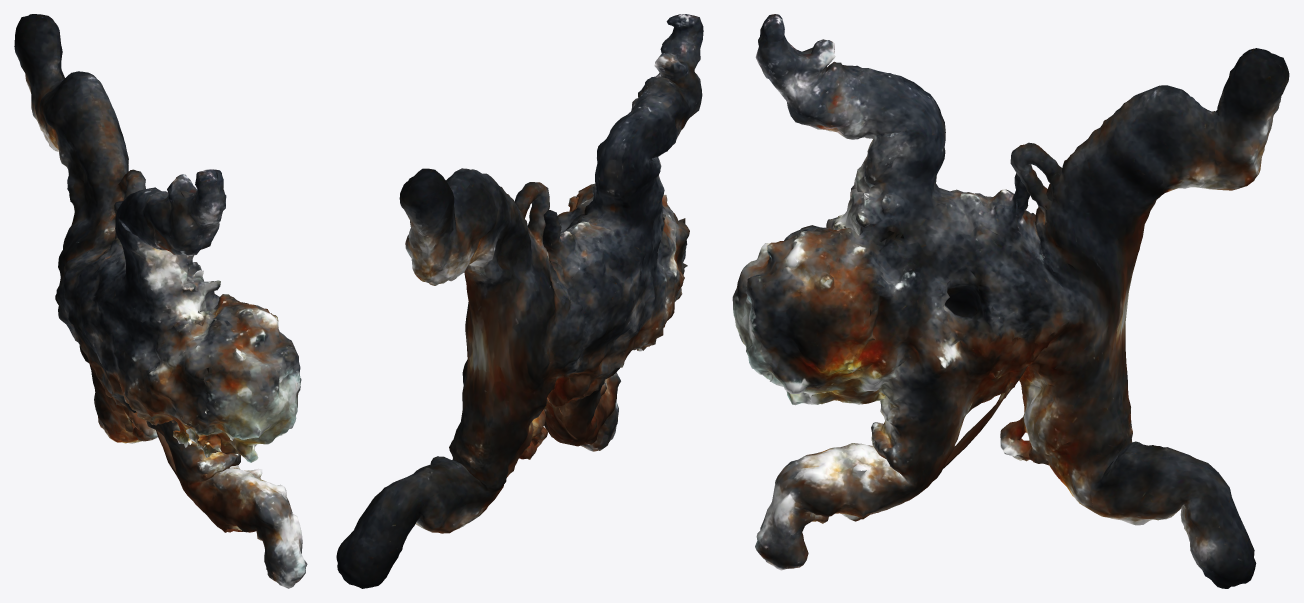
File: astronaut_pose2.gltf
3 views of the same model, side by side, from view 1: azimuth 30°, elevation 25°; view 2: azimuth 150°, elevation 25°; view 3: azimuth 270°, elevation 25° (orthographic). The views are drawn at different scales.
Visible parts, largest first — view 1: pose2; view 2: pose2; view 3: pose2.
Boxes of the visible parts, <box> form: pose2: <box>14,14,307,588</box>; pose2: <box>336,14,703,588</box>; pose2: <box>732,14,1289,588</box>.
Bounding box in the file's own units: 0.3736 × 0.8952 × 0.8951.
Materials: 1 (1 with a texture image).
